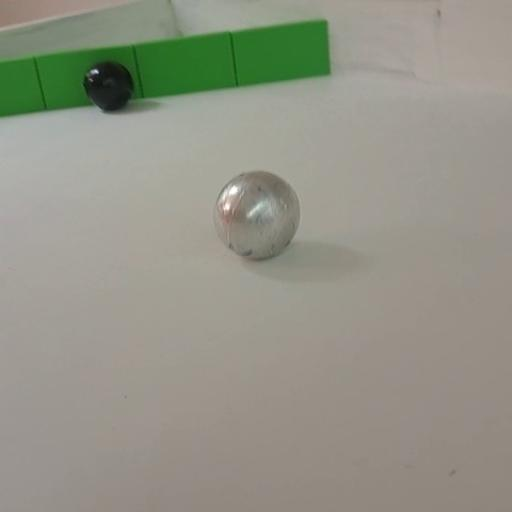alive: (213, 168, 303, 266)
dead: (81, 54, 138, 115)
